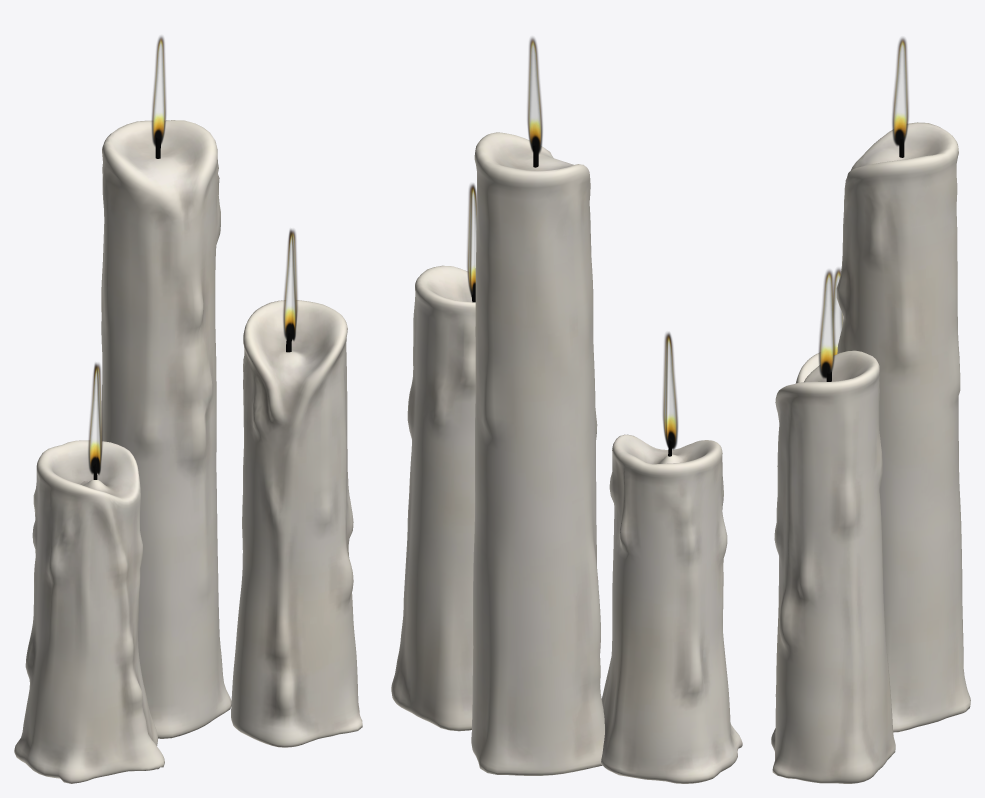
Rendered from candles.glb.
3 renders of one model, left to right at view 1: azimuth 30°, elevation 25°; view 2: azimuth 150°, elevation 25°; view 3: azimuth 270°, elevation 25°, orthographic. The views are drawn at different scales.
Visible parts, largest first — view 1: CandleSet01_Stick02_geo, CandleSet01_Stick03_geo, CandleSet01_Stick01_geo, CandleSet01_Stick01_Flame_geo, CandleSet01_Stick03_Flame_geo, CandleSet01_Stick02_Flame_geo; view 2: CandleSet01_Stick02_geo, CandleSet01_Stick01_geo, CandleSet01_Stick03_geo, CandleSet01_Stick01_Flame_geo, CandleSet01_Stick02_Flame_geo, CandleSet01_Stick03_Flame_geo; view 3: CandleSet01_Stick02_geo, CandleSet01_Stick03_geo, CandleSet01_Stick03_Flame_geo, CandleSet01_Stick02_Flame_geo, CandleSet01_Stick01_Flame_geo.
Boxes of the visible parts, x1,y1,x2,y2 form: CandleSet01_Stick02_geo: (101, 120, 231, 738); CandleSet01_Stick03_geo: (231, 300, 362, 747); CandleSet01_Stick01_geo: (14, 440, 164, 783); CandleSet01_Stick01_Flame_geo: (88, 363, 102, 474); CandleSet01_Stick03_Flame_geo: (283, 229, 297, 340); CandleSet01_Stick02_Flame_geo: (151, 36, 166, 146); CandleSet01_Stick02_geo: (471, 132, 604, 775); CandleSet01_Stick01_geo: (601, 434, 742, 783); CandleSet01_Stick03_geo: (391, 265, 475, 731); CandleSet01_Stick01_Flame_geo: (663, 332, 677, 449); CandleSet01_Stick02_Flame_geo: (527, 37, 542, 153); CandleSet01_Stick03_Flame_geo: (467, 183, 476, 297); CandleSet01_Stick02_geo: (836, 122, 970, 732); CandleSet01_Stick03_geo: (771, 350, 895, 783); CandleSet01_Stick03_Flame_geo: (818, 270, 835, 378); CandleSet01_Stick02_Flame_geo: (892, 37, 908, 146); CandleSet01_Stick01_Flame_geo: (832, 268, 843, 355).
Size of the model in its own units: 0.1522 by 0.3185 by 0.084.
Materials: 3 (2 with a texture image).
